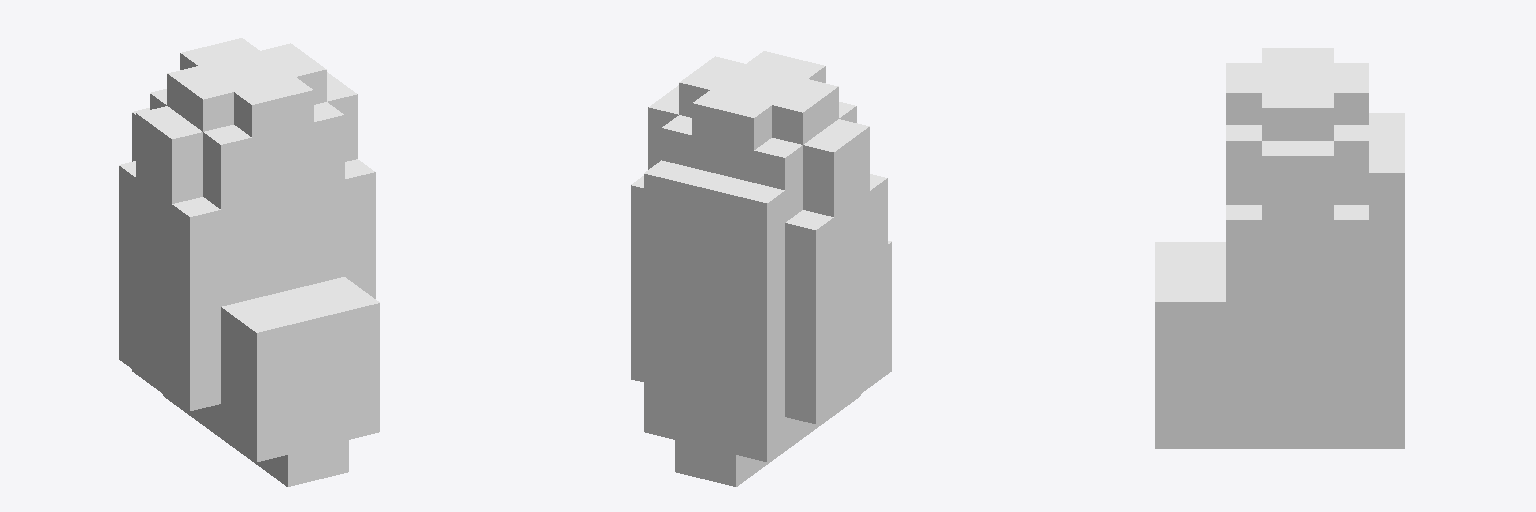
Rendered from saboObj-2.obj.
3 views of the same model, side by side, from view 1: azimuth 30°, elevation 25°; view 2: azimuth 150°, elevation 25°; view 3: azimuth 270°, elevation 25° (orthographic).
Visible parts, largest first — view 1: object 1; view 2: object 1; view 3: object 1.
Part boxes in pixels (left/top/right/bottom): object 1: left=119, top=38, right=379, bottom=486; object 1: left=631, top=51, right=891, bottom=486; object 1: left=1155, top=48, right=1404, bottom=448.
Bounding box in the file's own units: 0.6 × 1.1 × 0.7.